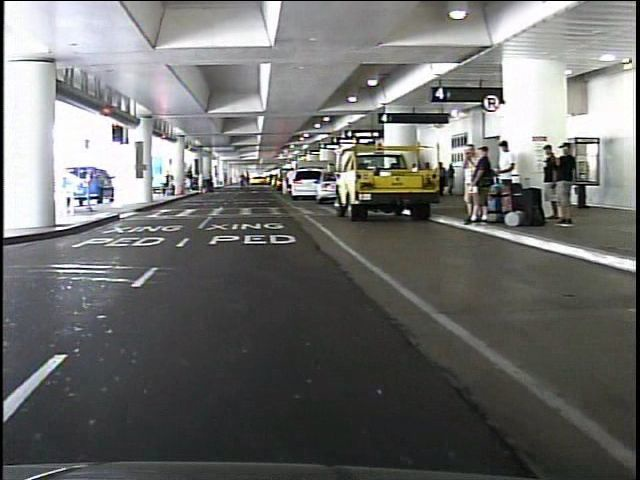person: (548, 143, 571, 231), (452, 143, 473, 220), (188, 165, 204, 199), (278, 165, 294, 199)
